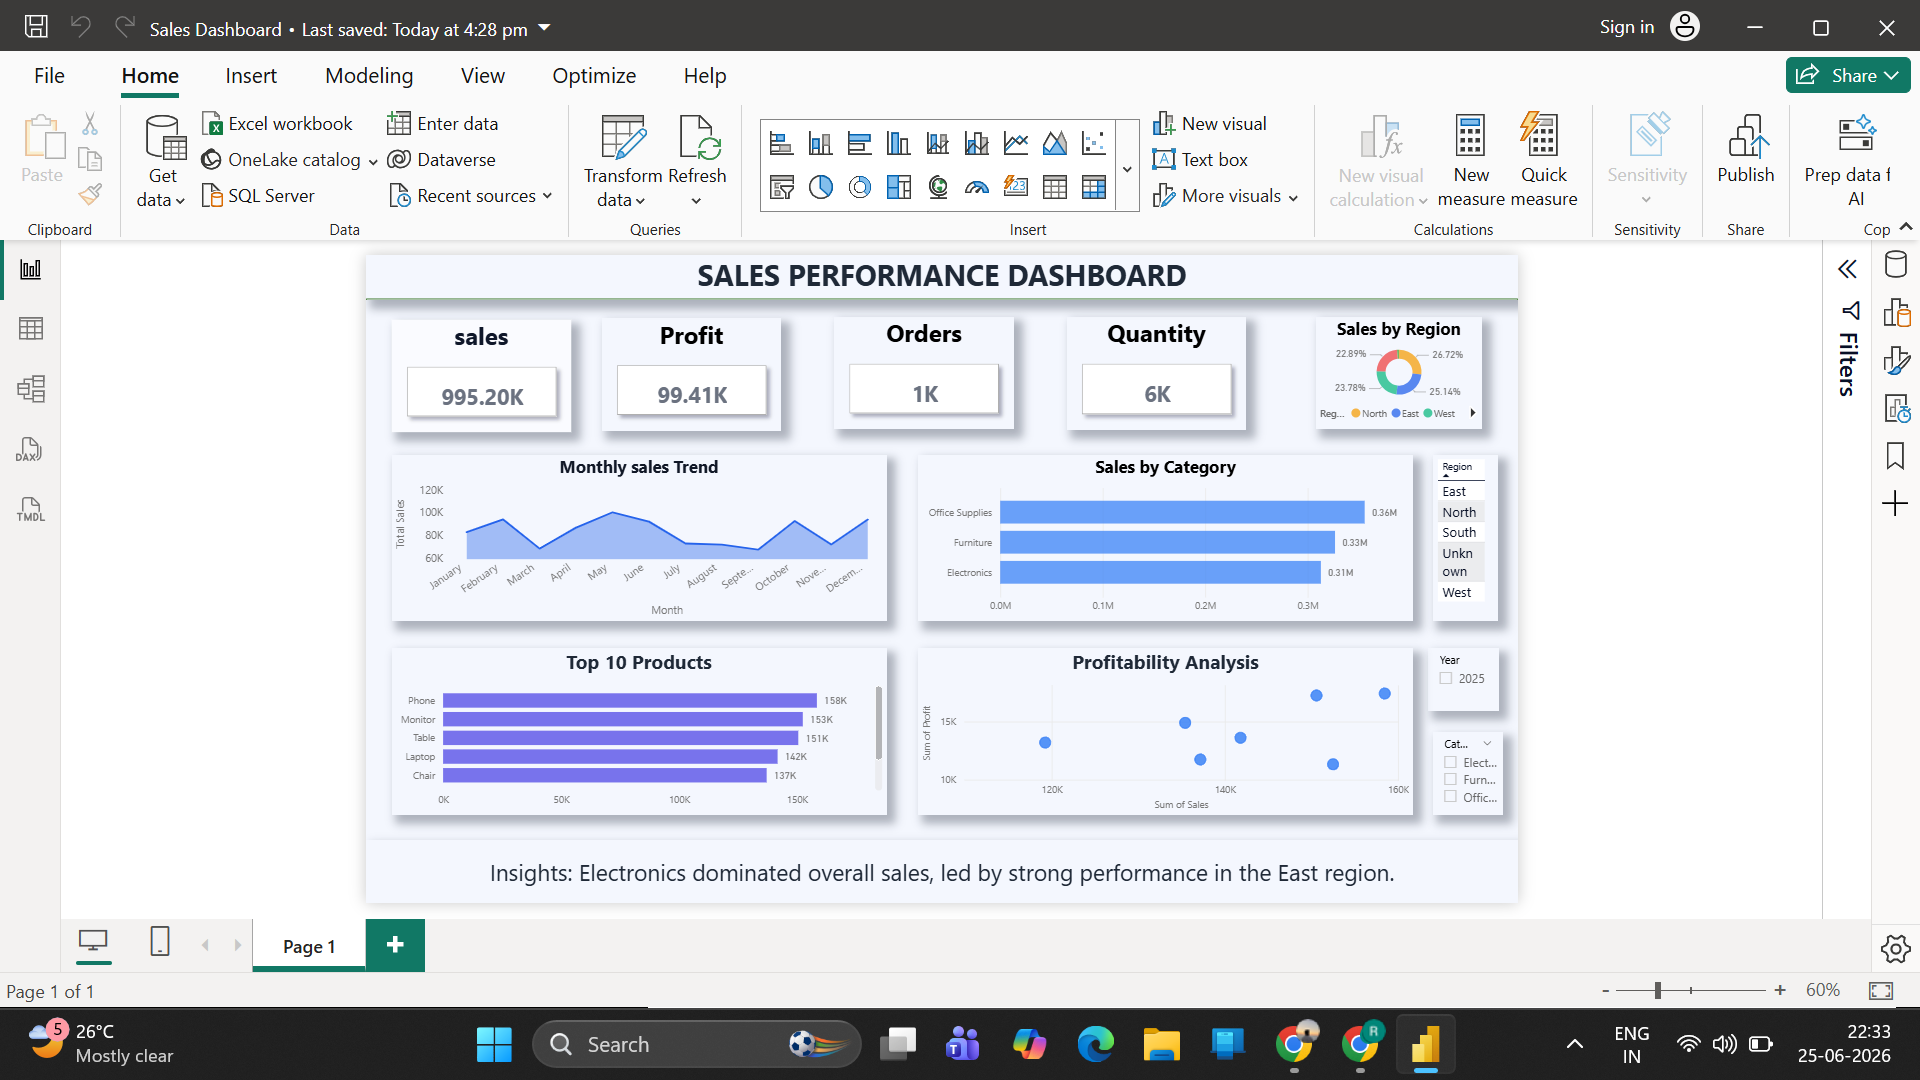

What the dashboard file says about the page in this screenshot:
{"tool":"powerbi","page":{"name":"Page 1","canvas":[1280,720],"ordinal":0},"visuals":[{"type":"cardVisual","title":"sales","fields":{"Data":["sales_dirty_dataset.Total Sales"]},"box":[28.3,71.7,200,125],"z":0},{"type":"cardVisual","title":"Quantity","fields":{"Data":["sales_dirty_dataset.Total Quantity"]},"box":[778,68,200,126],"z":1000},{"type":"cardVisual","title":"Orders","fields":{"Data":["sales_dirty_dataset.Total Orders"]},"box":[520,68.3,200,125],"z":2000},{"type":"cardVisual","title":"Profit","fields":{"Data":["sales_dirty_dataset.Total Profit"]},"box":[261.7,70,200,125],"z":3000},{"type":"areaChart","title":"Monthly sales Trend","fields":{"Category":["sales_dirty_dataset.OrderDate.Variation.Date Hierarchy.Month"],"Y":["sales_dirty_dataset.Total Sales"]},"box":[28.3,221.7,550,185],"z":4000},{"type":"clusteredBarChart","title":"Sales by Category","fields":{"Category":["sales_dirty_dataset.Category"],"Y":["sales_dirty_dataset.Total Sales"]},"box":[613.3,221.7,550,185],"z":5000},{"type":"donutChart","title":"Sales by Region","fields":{"Category":["sales_dirty_dataset.Region"],"Y":["sales_dirty_dataset.Total Sales"]},"box":[1055,68.3,185,125],"z":6000},{"type":"barChart","title":"Top 10 Products","fields":{"Category":["sales_dirty_dataset.Product"],"Y":["sales_dirty_dataset.Total Sales"]},"box":[28.3,436.7,550,185],"z":7000},{"type":"shape","title":"SALES PERFORMANCE DASHBOARD","box":[0,0,1280,50],"z":8000},{"type":"scatterChart","title":"Profitability Analysis","fields":{"X":["Sum(sales_dirty_dataset.Sales)"],"Y":["Sum(sales_dirty_dataset.Profit)"],"Category":["sales_dirty_dataset.Product"]},"box":[613.3,436.7,550,185],"z":9000},{"type":"slicer","fields":{"Values":["sales_dirty_dataset.OrderDate.Variation.Date Hierarchy.Year"]},"box":[1180,436.7,78.3,70],"z":10000},{"type":"slicer","fields":{"Values":["sales_dirty_dataset.Category"]},"box":[1185,530,78.3,91.7],"z":11000},{"type":"tableEx","fields":{"Values":["sales_dirty_dataset.Region"]},"box":[1185,221.7,73.3,185],"z":12000},{"type":"shape","box":[0,650,1280,70],"z":13000}]}

Visuals, with their boxes on the page's 1280x720 design canvas (x1, y1, x2, y2). These are canvas units, not pixel positions in the 1920x1080 screenshot, which may show the page scaled, cropped or inside an application window:
"sales" cardVisual: box=[28, 72, 228, 197]
"Quantity" cardVisual: box=[778, 68, 978, 194]
"Orders" cardVisual: box=[520, 68, 720, 193]
"Profit" cardVisual: box=[262, 70, 462, 195]
"Monthly sales Trend" areaChart: box=[28, 222, 578, 407]
"Sales by Category" clusteredBarChart: box=[613, 222, 1163, 407]
"Sales by Region" donutChart: box=[1055, 68, 1240, 193]
"Top 10 Products" barChart: box=[28, 437, 578, 622]
"SALES PERFORMANCE DASHBOARD" shape: box=[0, 0, 1280, 50]
"Profitability Analysis" scatterChart: box=[613, 437, 1163, 622]
slicer - sales_dirty_dataset.OrderDate.Variation.Date Hierarchy.Year: box=[1180, 437, 1258, 507]
slicer - sales_dirty_dataset.Category: box=[1185, 530, 1263, 622]
tableEx - sales_dirty_dataset.Region: box=[1185, 222, 1258, 407]
shape: box=[0, 650, 1280, 720]
